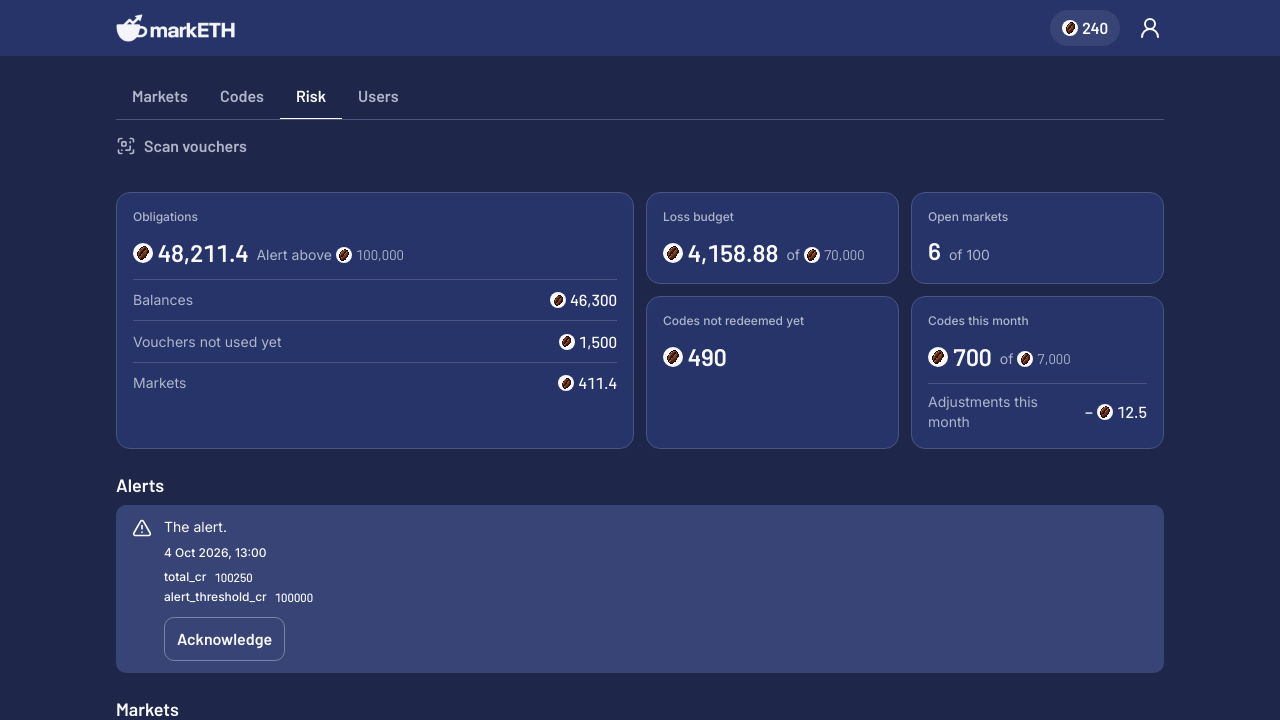
Scenario: alerts › a refusal shows the API's message beside the alert, which stays
Click the button "Acknowledge" at (225, 639), box [164, 617, 285, 661]
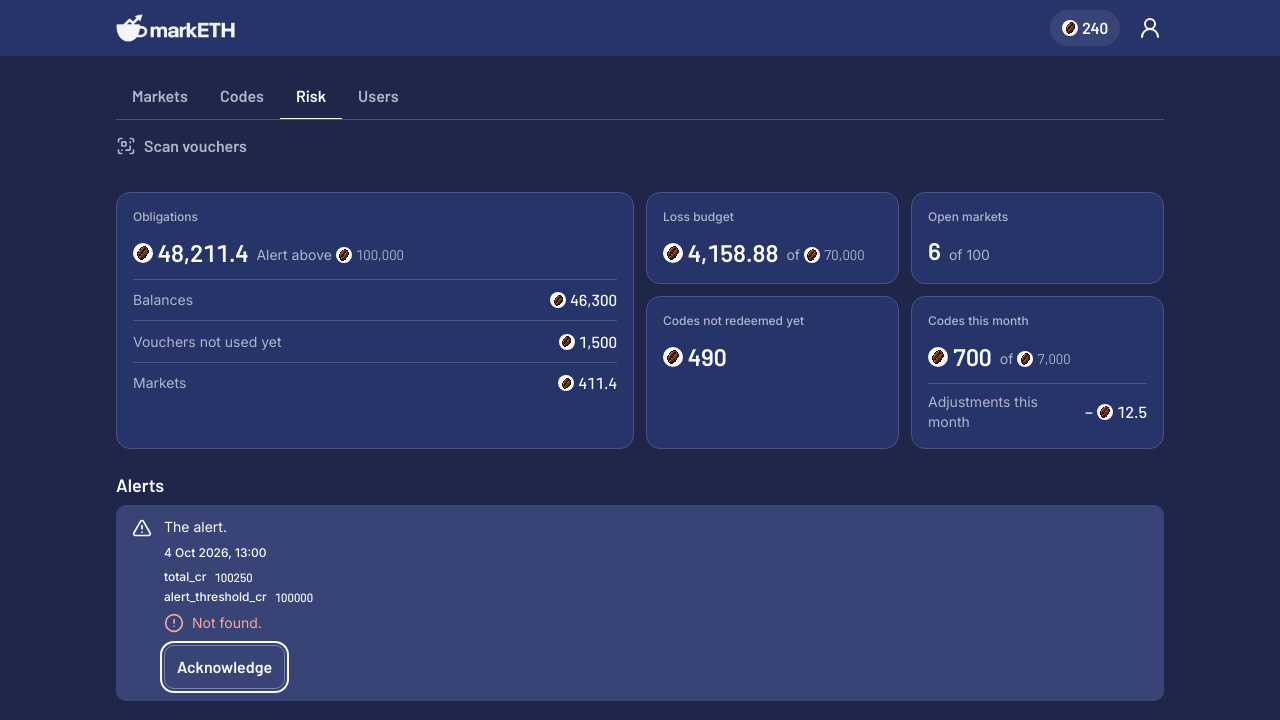
Expected: the button "Acknowledge" is enabled, [164, 645, 285, 689]
Now the text "Not found." is shown, box [192, 613, 262, 633]
